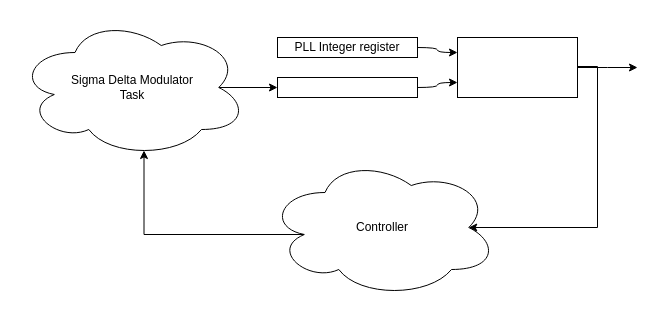
This 663x315 diagram has some shape labels left out. Each missing label, with the centre of its shape:
"Application PLL" belongs at [517,67].
"PLL Fractional register" belongs at [347,87].
